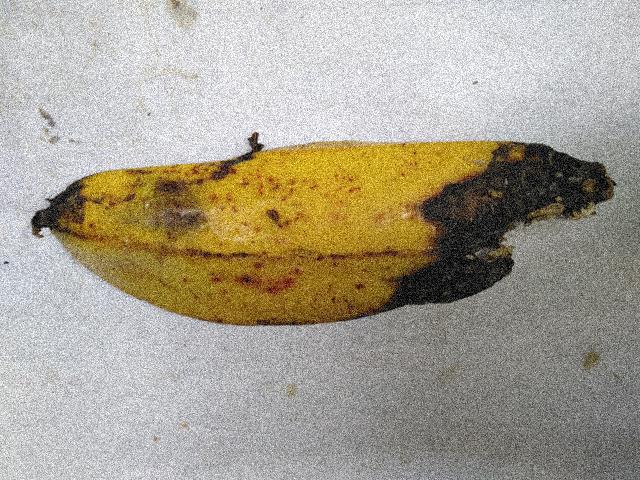rotten: (365, 113, 602, 341), (129, 93, 272, 239), (41, 136, 108, 265)
